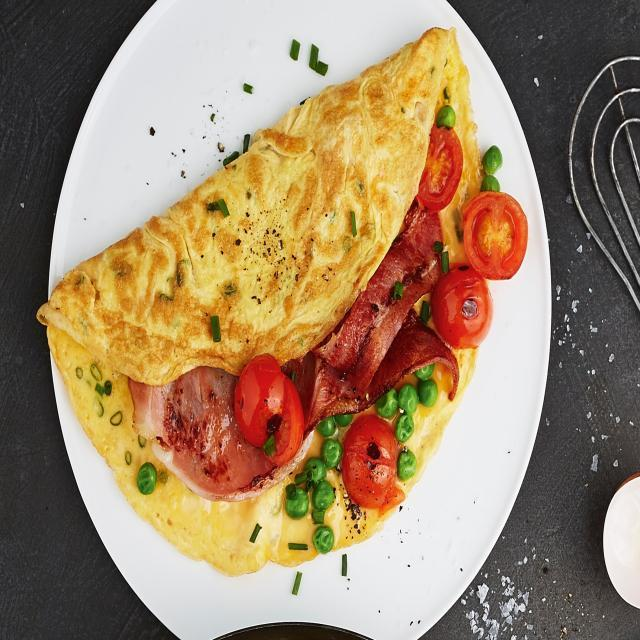telur_ayam_dadar: (37, 26, 497, 578)
